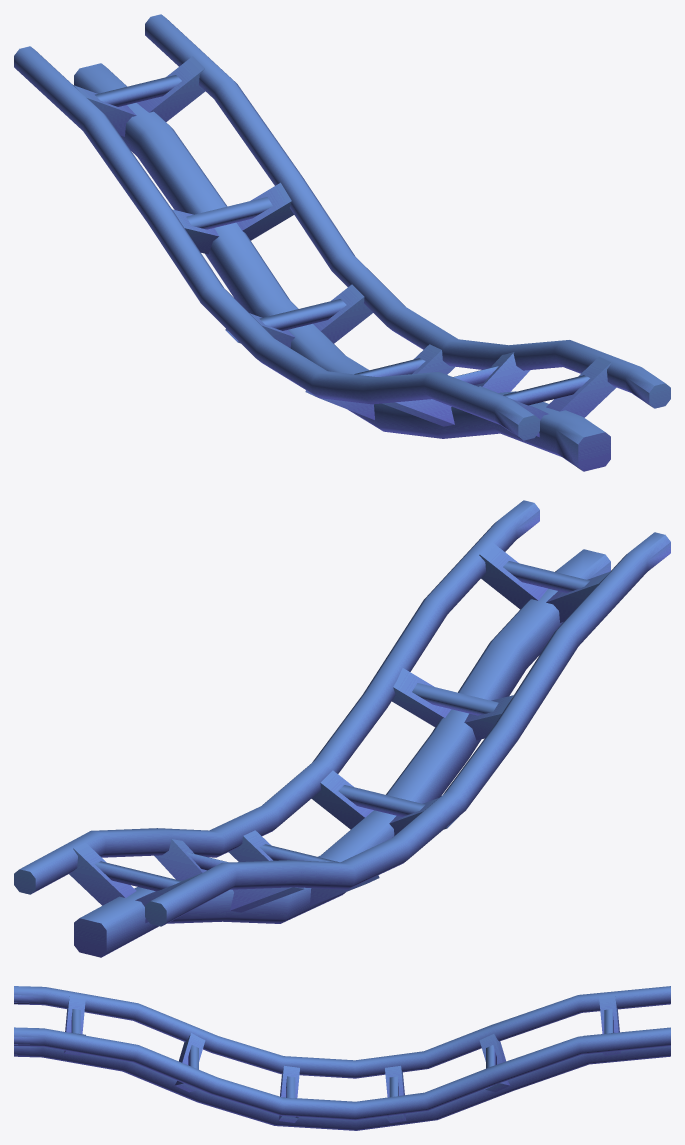
Rendered from coaster-steel-straight-bump-down.glb.
3 renders of one model, top to bottom at view 1: azimuth 30°, elevation 25°; view 2: azimuth 150°, elevation 25°; view 3: azimuth 270°, elevation 25°, orthographic. The views are drawn at different scales.
Parts seen in each view (by area): view 1: coaster-steel-straight-bump-down; view 2: coaster-steel-straight-bump-down; view 3: coaster-steel-straight-bump-down.
Boxes of the visible parts, left/top/right/bottom form: coaster-steel-straight-bump-down: left=14, top=14, right=670, bottom=471; coaster-steel-straight-bump-down: left=14, top=500, right=670, bottom=957; coaster-steel-straight-bump-down: left=14, top=986, right=670, bottom=1130.
Size of the model in its own units: 2.1 by 2.4 by 12.
1 material, 1 textured.
